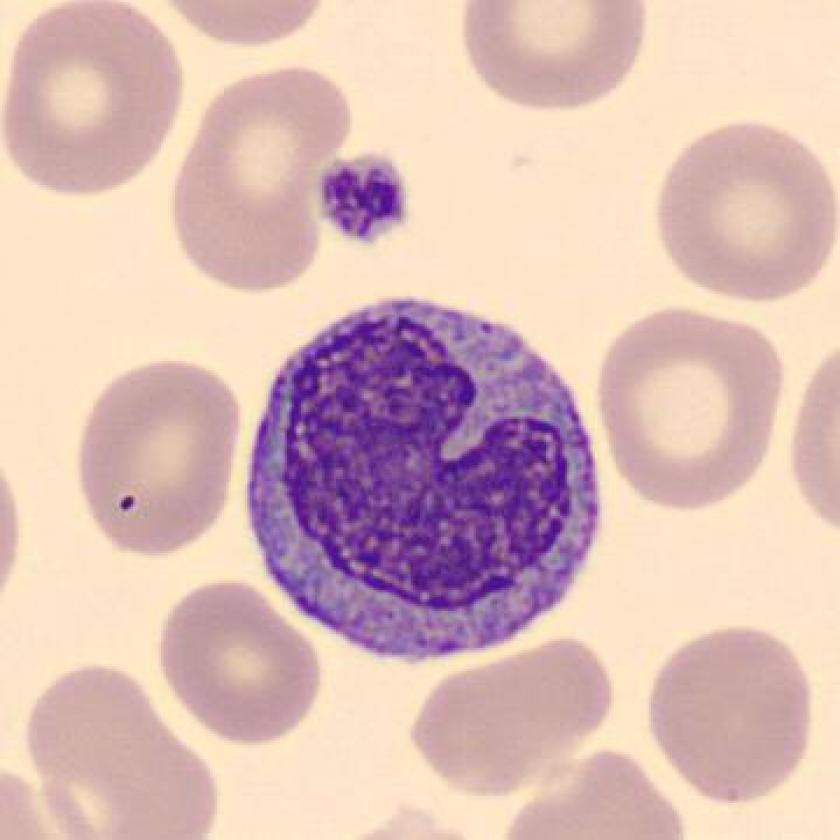monocyte: (221, 279, 627, 681)
